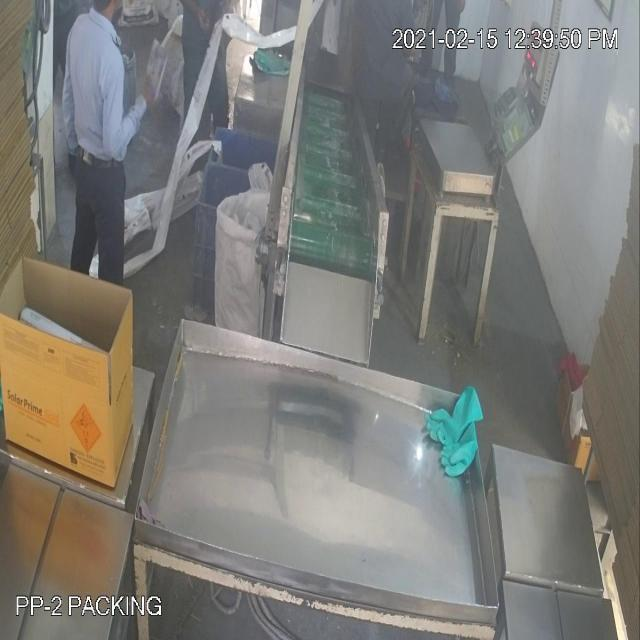No_Gloves: (55, 94, 454, 434)
